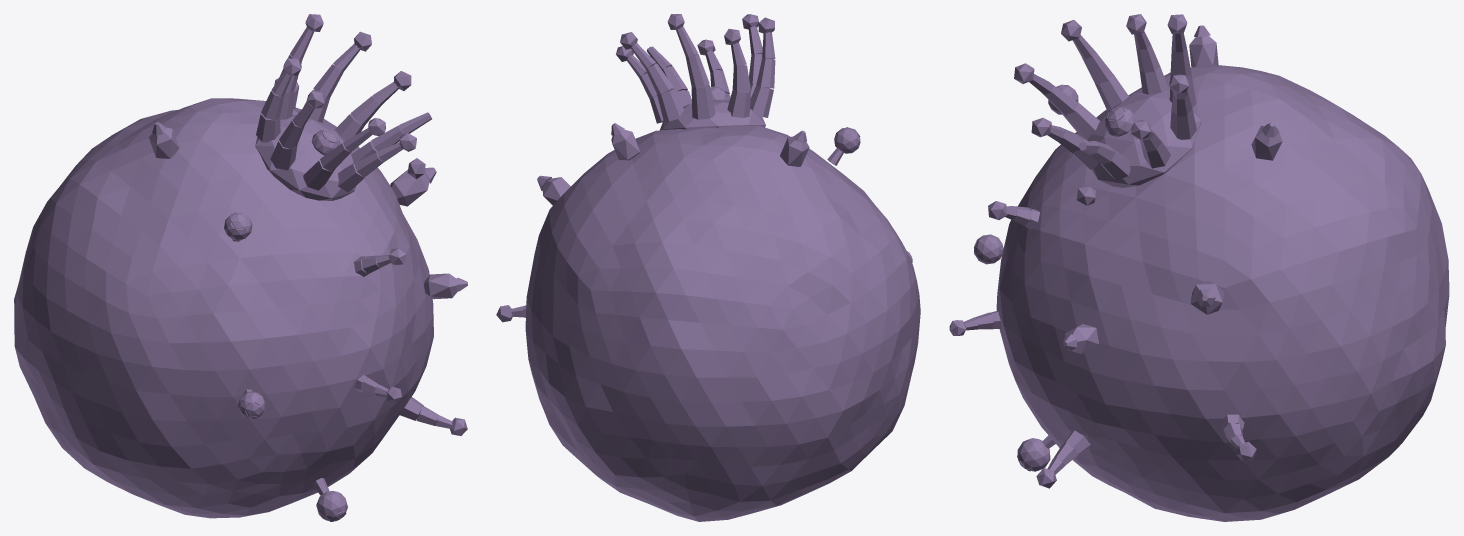
Rendered from Alien_03.fbx.
3 views of the same model, side by side, from view 1: azimuth 30°, elevation 25°; view 2: azimuth 150°, elevation 25°; view 3: azimuth 270°, elevation 25° (orthographic). The views are drawn at different scales.
Visible parts, largest first — view 1: Alien_03; view 2: Alien_03; view 3: Alien_03.
Boxes of the visible parts, left/top/right/bottom form: Alien_03: left=14, top=14, right=467, bottom=521; Alien_03: left=496, top=14, right=920, bottom=521; Alien_03: left=949, top=14, right=1449, bottom=521.
Size of the model in its own units: 6.75 by 7.63 by 6.64.
